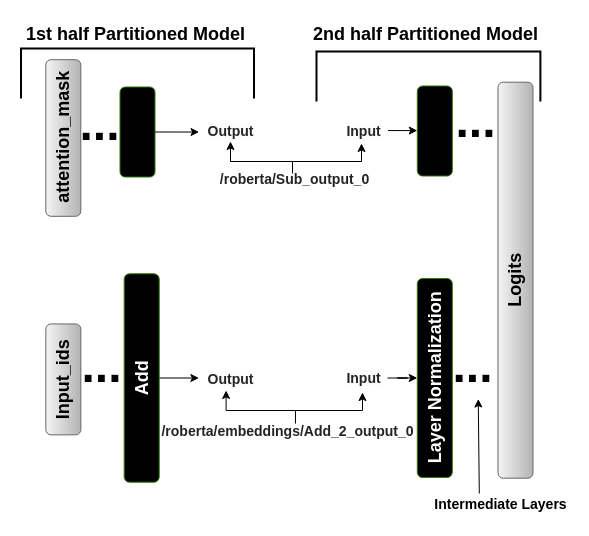
The diagram is 589 pixels wide and 536 high, and some of its shapes have lost their labels. Each missing label, with the centre of its shape:
Mul: (434,130)
Sub: (137,131)
